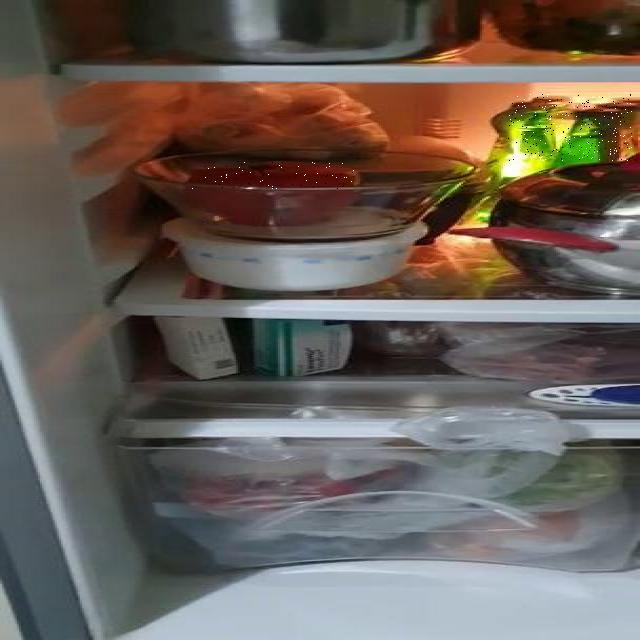mineral water: (508, 94, 632, 161)
tomato: (192, 161, 354, 189)
